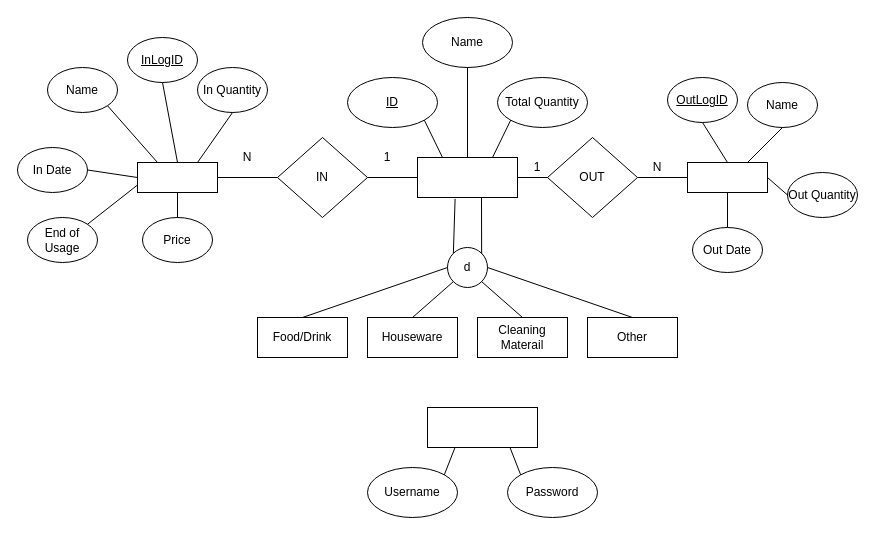
Image size: 875x535. Some labels were removed from this diagram. The box of each missing label's shape, as (x1, y1, x2, y2) in pixels:
InLog: (136, 162, 218, 192)
OutLog: (686, 162, 768, 192)
Product: (416, 156, 518, 198)
Registered User: (426, 406, 538, 448)
